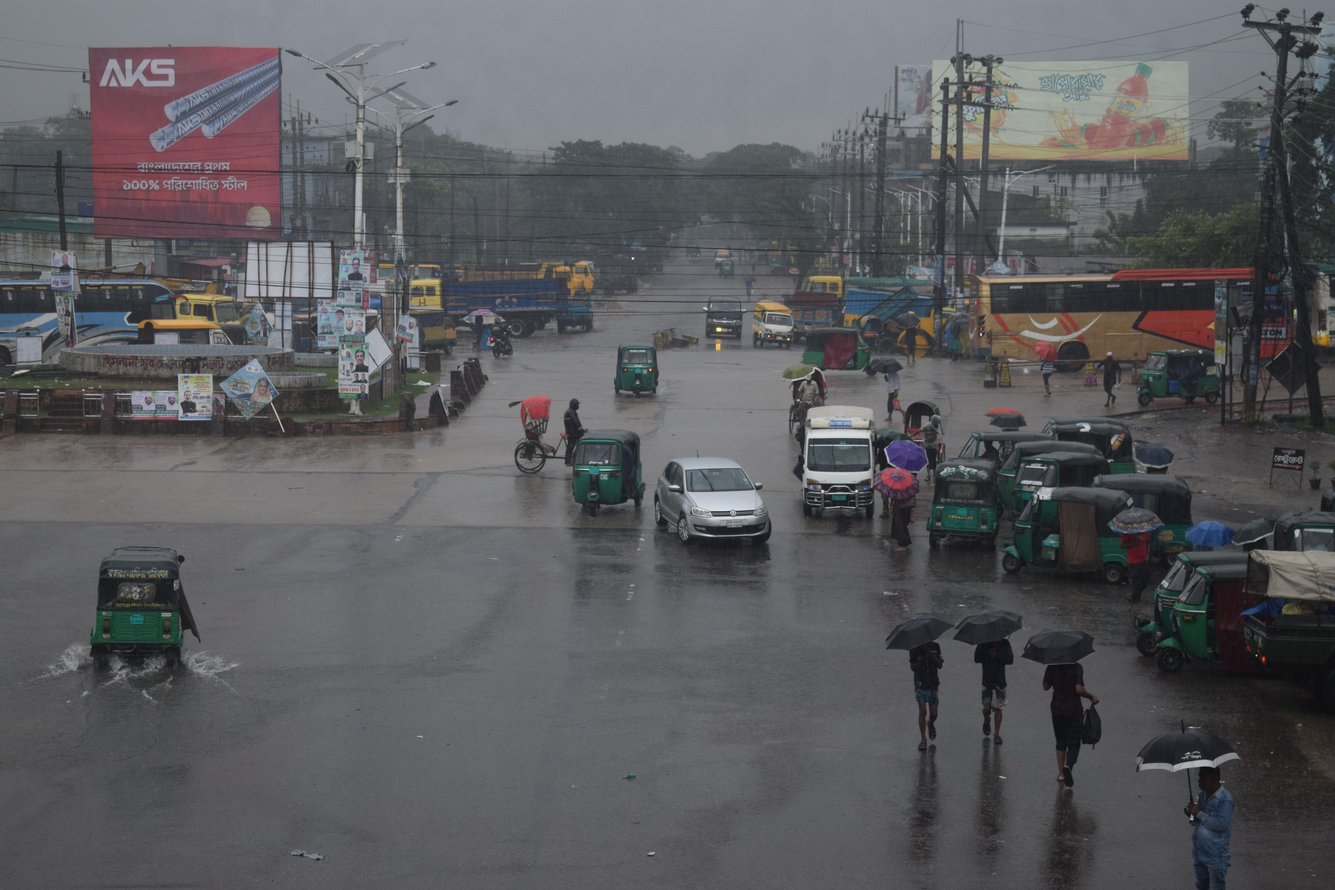Bike: (478, 312, 523, 360)
Bus: (949, 243, 1317, 405), (0, 256, 196, 385)
Car: (635, 428, 795, 576), (779, 375, 921, 531), (484, 384, 606, 483), (734, 284, 804, 360), (693, 274, 754, 356)
Truck: (382, 249, 573, 327), (174, 266, 267, 367)
